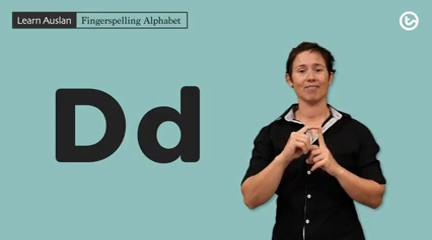D: (285, 124, 333, 173)
